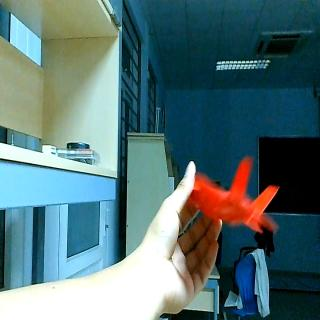Jet: (194, 157, 280, 236)
